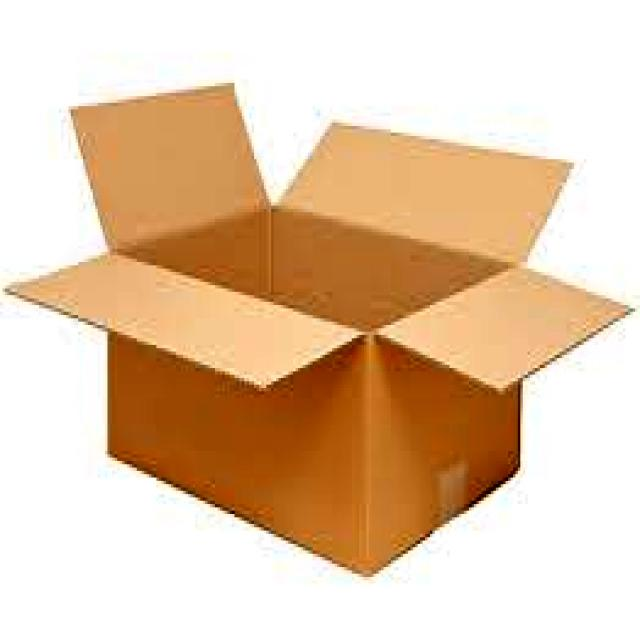Cardboard: (8, 81, 639, 577)
